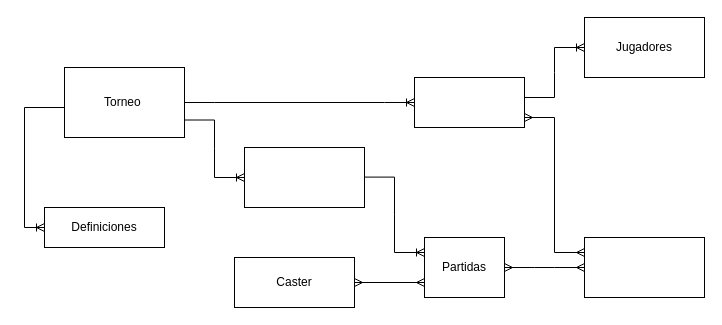
Some shapes in this 722 by 325 pixel diagram are drawn without their labels. The centre of each missing label's shape, as x and y in pixels:
Equipos: the point at 644,267
Inscripción: the point at 469,102
Llaves: the point at 304,177
